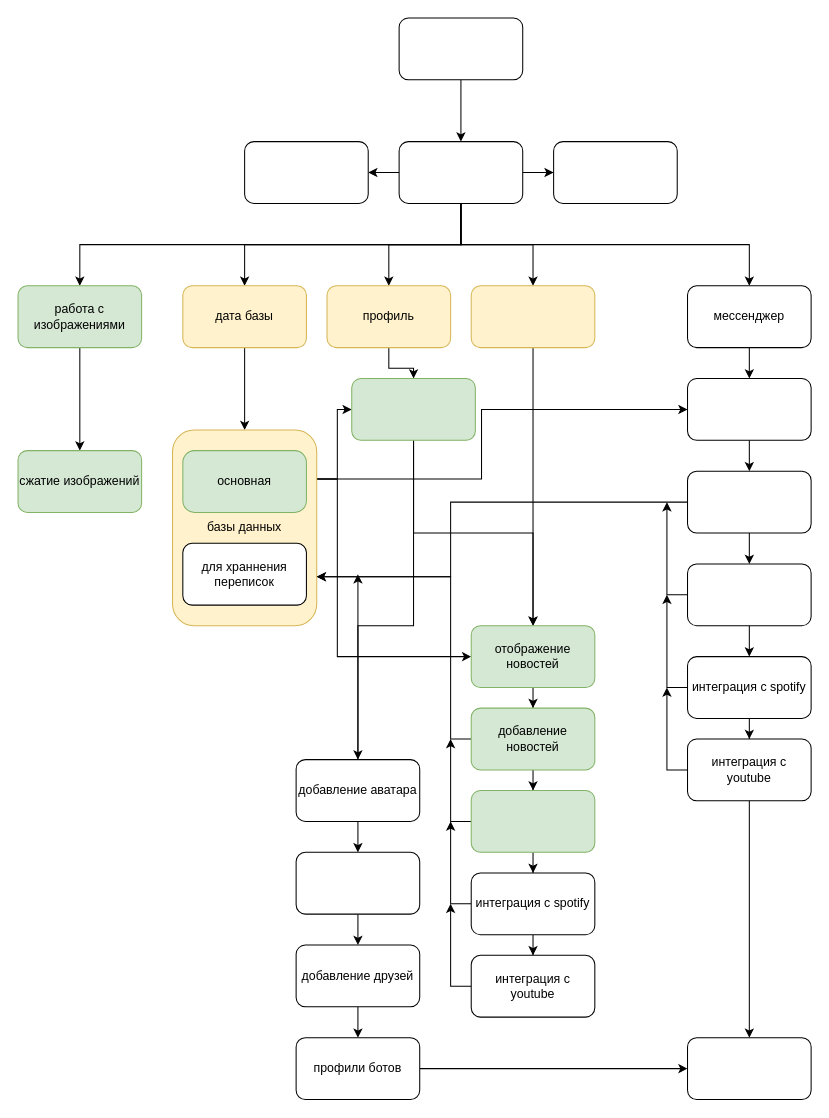
This 829x1118 diagram has some shape labels left out. Here are the shapes that lost their labels. From the top down, the centre of each, then its label:
At (532,316): "новосная лента".
At (413,408): "отображение профиля".
At (748,408): "отображение сообщений".
At (748,501): "отправка сообщений".
At (748,594): "добавление изображений".
At (532,820): "добовление изображений".
At (357,882): "смена темы сайта".
At (748,1068): "api для ботов".
